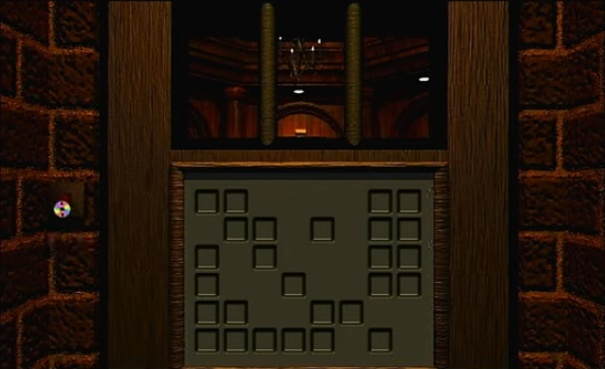Waiting: (51, 198, 73, 219)
